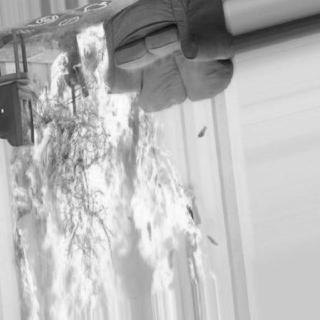Fire: (116, 107, 194, 313)
